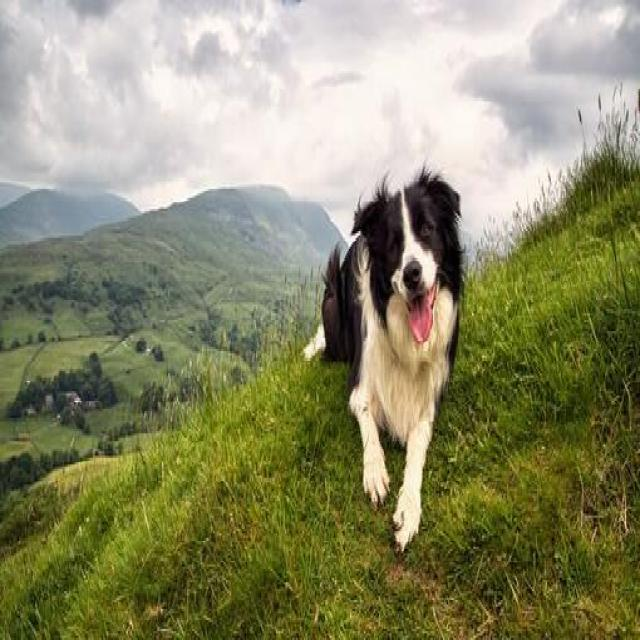BORDER_COLLIE: (289, 162, 475, 557)
